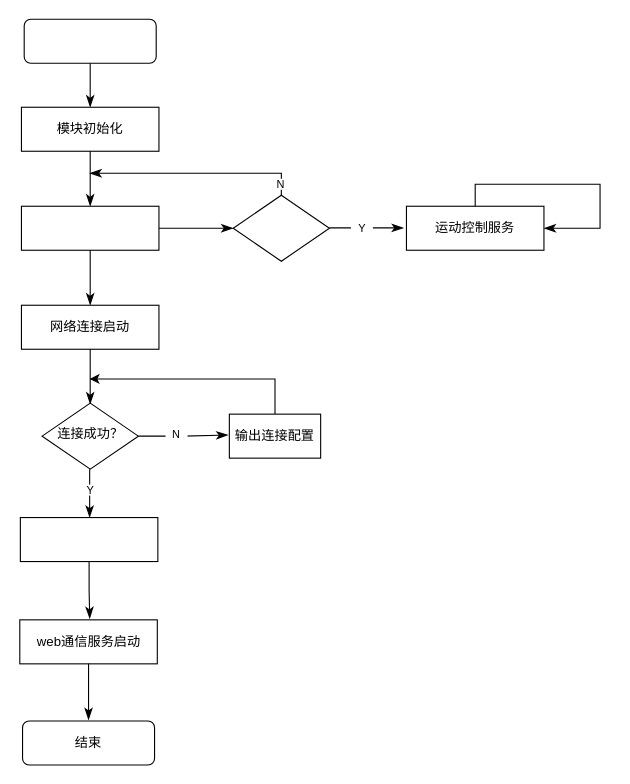
Some shapes in this 630 by 784 pixel diagram are drawn without their labels. Each missing label, with the centre of its shape:
启动成功？: the point at 280,227
多线程启动: the point at 88,539
定时器启动: the point at 89,227
开始: the point at 89,40
